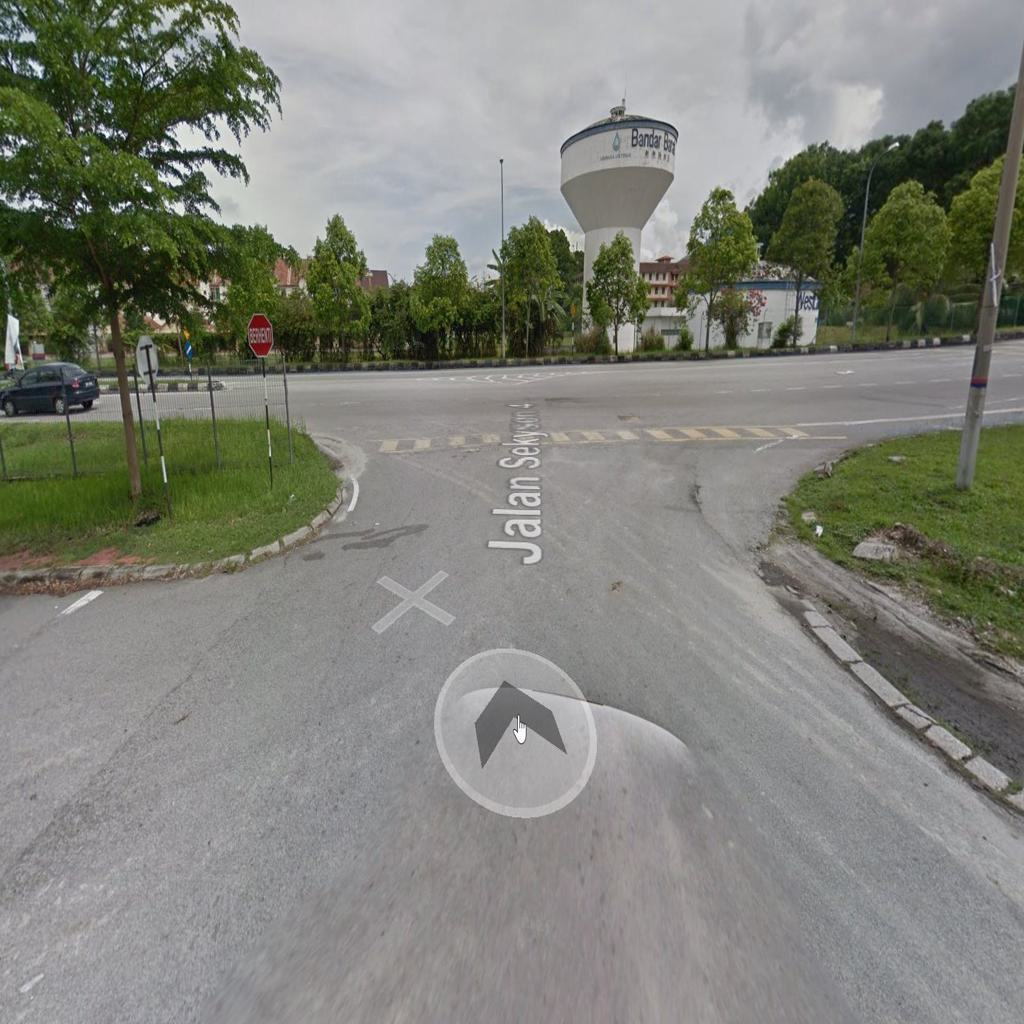Junction: (710, 319, 1024, 611), (121, 324, 413, 512)
